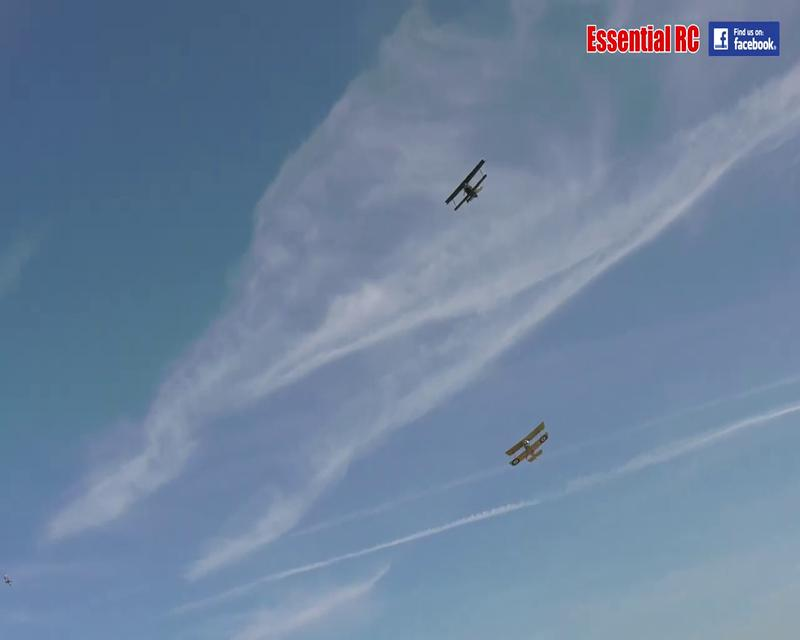UAV: (501, 420, 551, 467), (445, 160, 490, 211)
